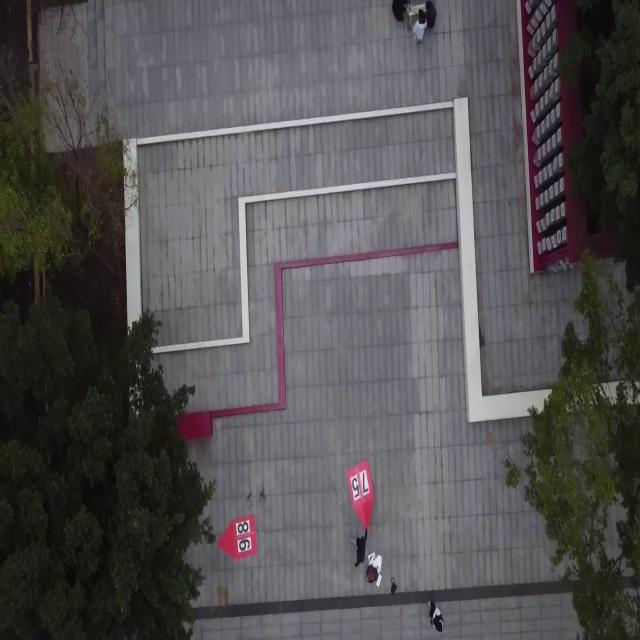-sign-: (344, 449, 378, 536), (217, 513, 257, 560)
